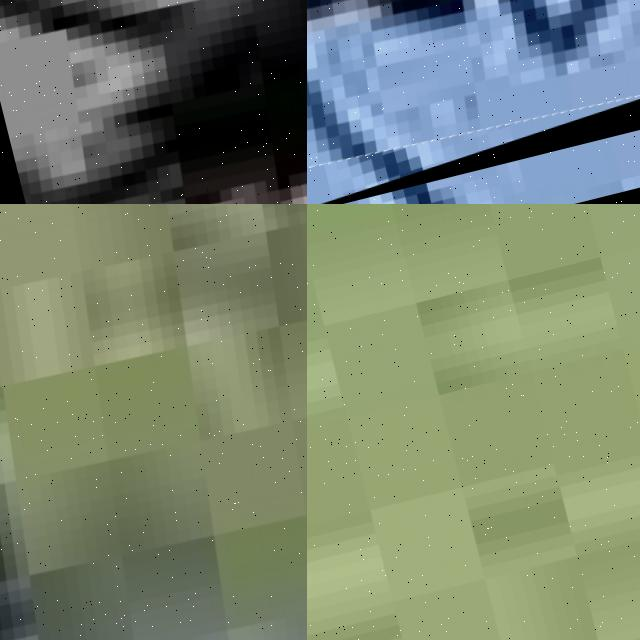drone: (0, 204, 307, 640), (307, 0, 640, 204), (0, 0, 307, 204)
